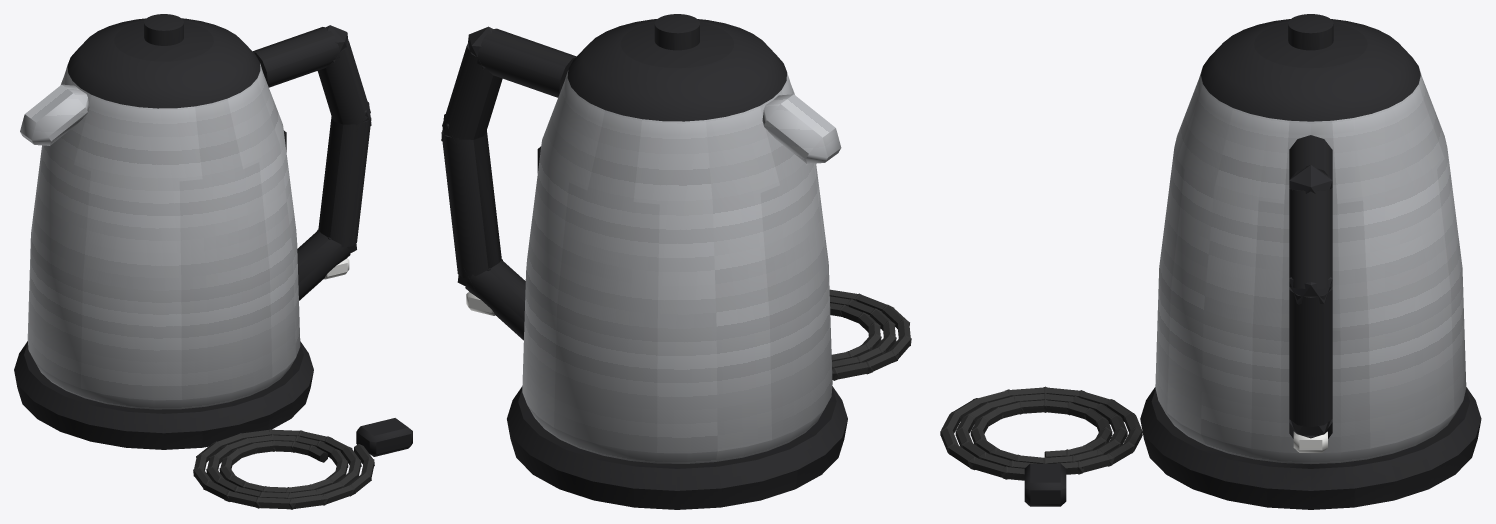
File: kettle.glb
3 renders of one model, left to right at view 1: azimuth 30°, elevation 25°; view 2: azimuth 150°, elevation 25°; view 3: azimuth 270°, elevation 25°, orthographic. The views are drawn at different scales.
Parts seen in each view (by area): view 1: body; view 2: body; view 3: body.
Boxes of the visible parts, x1,y1,x2,y2 form: body: (14, 14, 412, 509); body: (441, 14, 911, 509); body: (940, 14, 1481, 509).
Size of what is drawn, in the model's own units: 0.2378 by 0.2444 by 0.2853.
4 materials, 1 textured.
